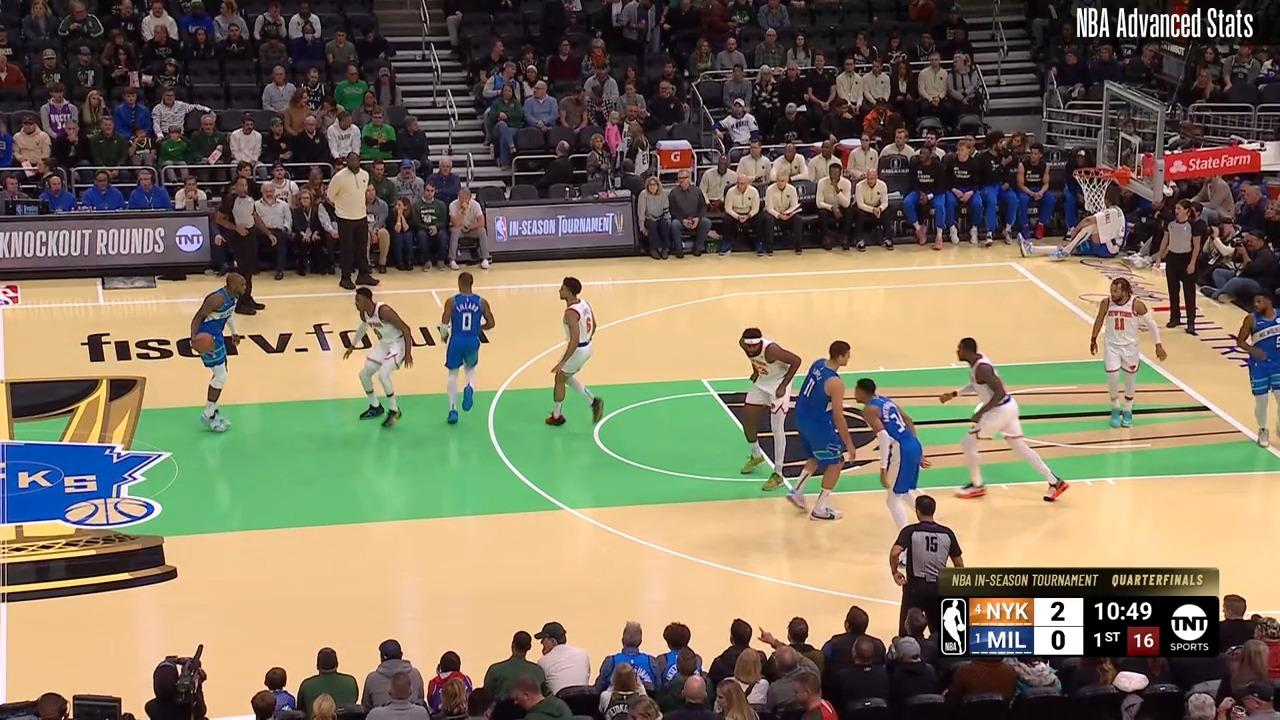Backboard: (1096, 91, 1161, 193)
Ball: (191, 332, 218, 356)
Basket: (1076, 165, 1112, 209)
Person: (936, 335, 1064, 505), (789, 345, 876, 516), (730, 324, 817, 490), (180, 271, 254, 437), (1090, 280, 1163, 431), (852, 381, 929, 524), (350, 284, 422, 429), (546, 277, 609, 425), (436, 270, 495, 426), (1232, 288, 1280, 458)
Referee: (891, 492, 965, 646), (214, 174, 272, 308), (1154, 196, 1203, 338)
Shot Clock: (1151, 40, 1184, 95)
